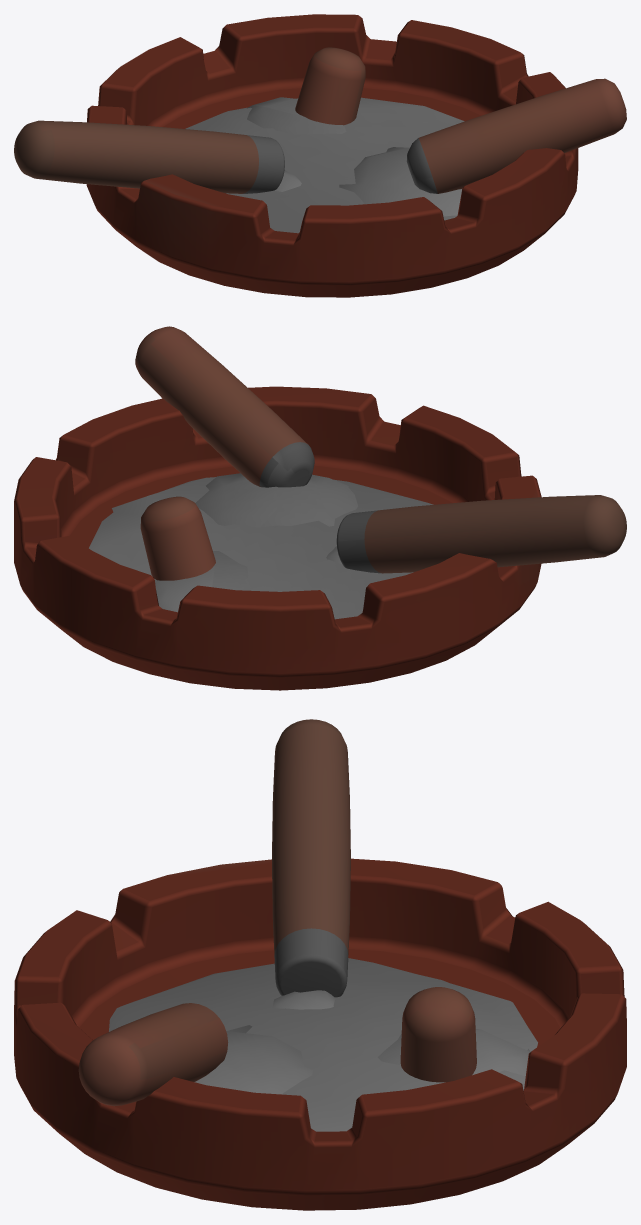
Rendered from SM_Sigar.fbx.
3 renders of one model, top to bottom at view 1: azimuth 30°, elevation 25°; view 2: azimuth 150°, elevation 25°; view 3: azimuth 270°, elevation 25°, orthographic. The views are drawn at different scales.
Visible parts, largest first — view 1: SM_Sigar; view 2: SM_Sigar; view 3: SM_Sigar.
Boxes of the visible parts, x1=… form: SM_Sigar: x1=14, y1=14, x2=626, y2=297; SM_Sigar: x1=14, y1=326, x2=626, y2=690; SM_Sigar: x1=14, y1=719, x2=626, y2=1210.
Size of the model in its own units: 39.59 by 11.32 by 31.89.
Materials: 1 (1 with a texture image).
